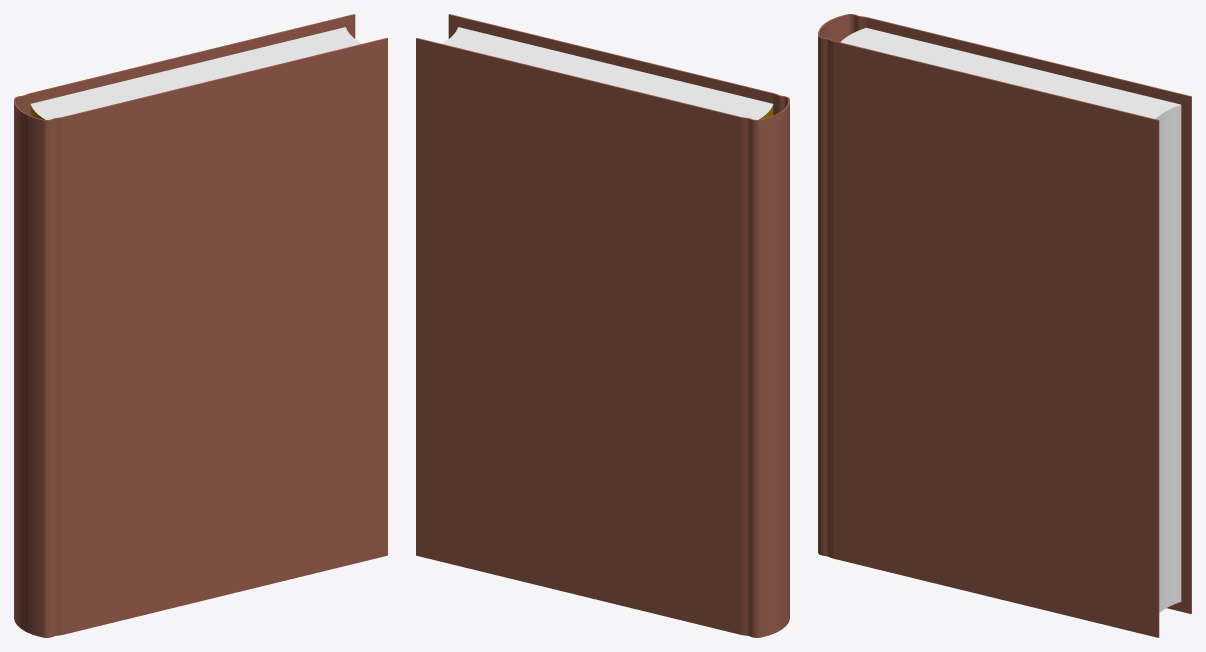
The picture shows the model from 3 angles, left to right: view 1: azimuth 30°, elevation 25°; view 2: azimuth 150°, elevation 25°; view 3: azimuth 330°, elevation 25°; orthographic projection.
Visible parts, largest first — view 1: book; view 2: book; view 3: book.
Boxes of the visible parts, x1,y1,x2,y2 form: book: (14, 14, 387, 637); book: (416, 14, 789, 637); book: (818, 14, 1191, 637).
Size of the model in its own units: 213 by 301 by 35.25.
